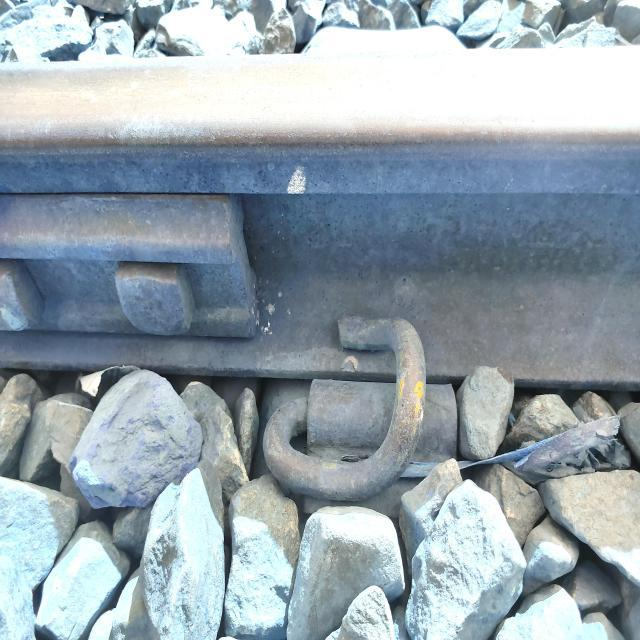Good Fasteners: (263, 318, 457, 500)
